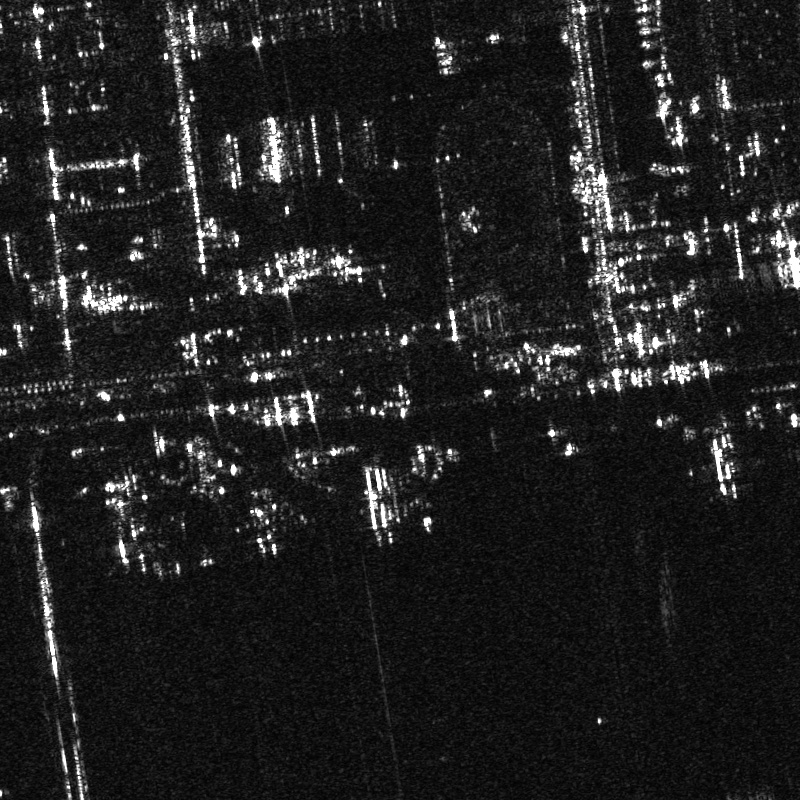Boeing737: (688, 426, 764, 501)
Boeing787: (231, 482, 305, 558), (159, 433, 236, 504)
